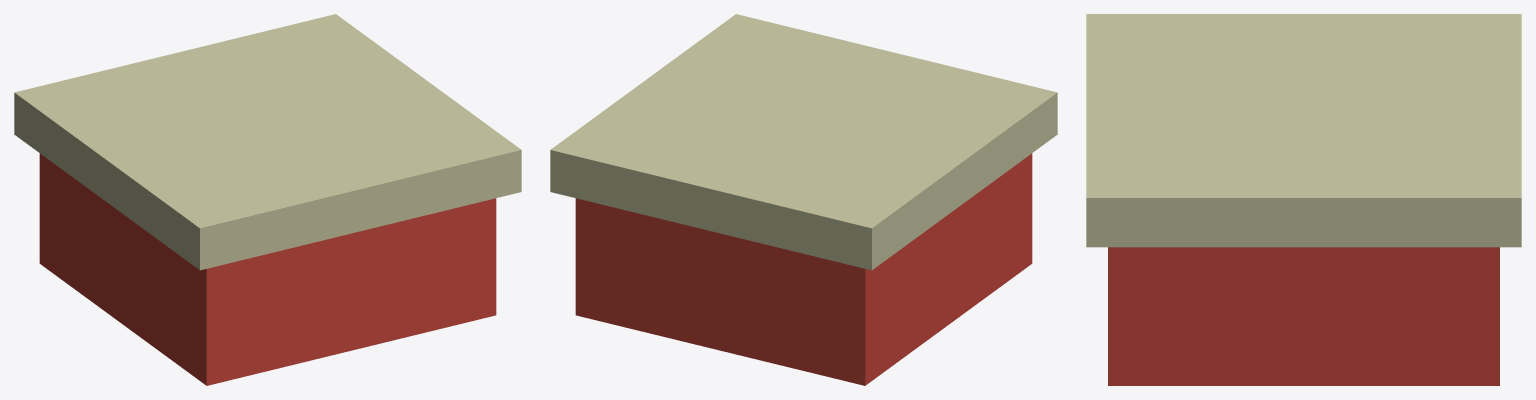
File: Counter.fbx
3 renders of one model, left to right at view 1: azimuth 30°, elevation 25°; view 2: azimuth 150°, elevation 25°; view 3: azimuth 270°, elevation 25°, orthographic. The views are drawn at different scales.
Visible parts, largest first — view 1: Counter; view 2: Counter; view 3: Counter.
Boxes of the visible parts, x1,y1,x2,y2 form: Counter: (14,14,521,385); Counter: (550,14,1057,385); Counter: (1086,14,1521,385).
Bounding box in the file's own units: 100 × 50 × 100.
